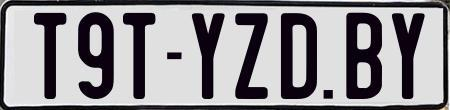9: (75, 10, 116, 102)
B: (344, 11, 383, 99)
D: (279, 12, 316, 104)
T: (32, 12, 70, 102), (122, 13, 155, 105)
Y: (192, 12, 227, 103), (390, 10, 424, 96)
Z: (234, 10, 273, 102)
